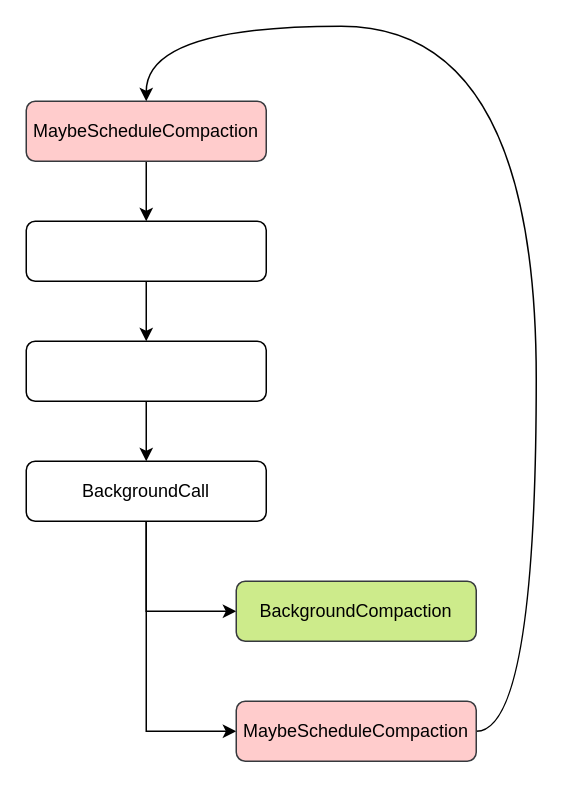
This 563x788 diagram has some shape labels left out. Here are the shapes that lost their labels. From the top down, the box of each, then its label:
(25, 220, 266, 281): env_->Schedule (&DBImpl::BGWork, this);
(25, 340, 266, 401): BGWork
